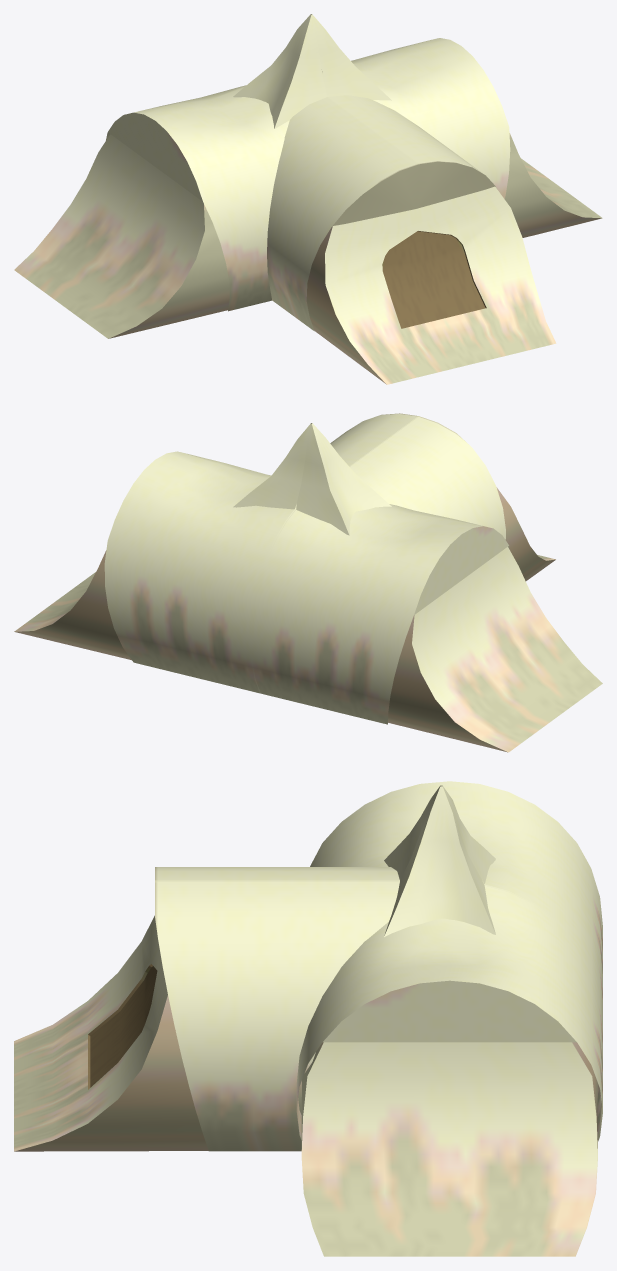
Rendered from BaseTent.fbx.
3 views of the same model, one above another, from view 1: azimuth 30°, elevation 25°; view 2: azimuth 150°, elevation 25°; view 3: azimuth 270°, elevation 25° (orthographic). The views are drawn at different scales.
Visible parts, largest first — view 1: Tent; view 2: Tent; view 3: Tent.
Part boxes in pixels (x1,y1,x2,y2): Tent: (14,14,602,384); Tent: (14,413,602,752); Tent: (14,781,602,1256).
Size of the model in its own units: 3275 by 1474 by 2529.
